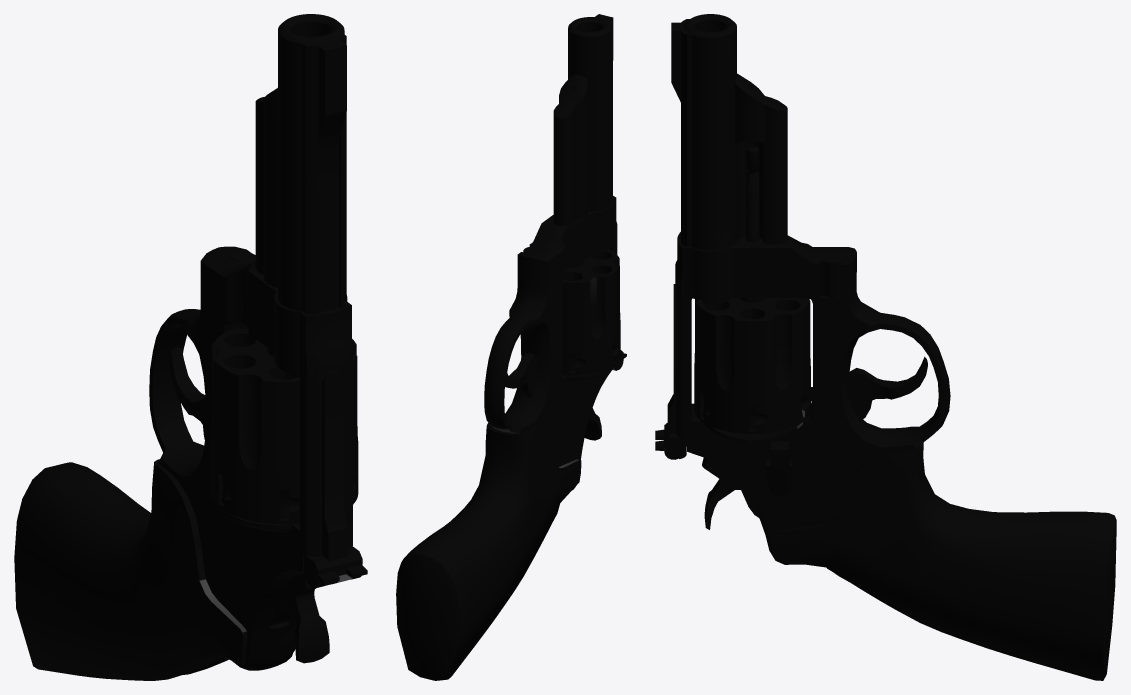
The picture shows the model from 3 angles, left to right: view 1: azimuth 30°, elevation 25°; view 2: azimuth 150°, elevation 25°; view 3: azimuth 270°, elevation 25°; orthographic projection. The views are drawn at different scales.
Visible parts, largest first — view 1: asset_SW_Model29.001; view 2: asset_SW_Model29.001; view 3: asset_SW_Model29.001.
Boxes of the visible parts, x1,y1,x2,y2 form: asset_SW_Model29.001: [14, 14, 367, 680]; asset_SW_Model29.001: [396, 14, 626, 680]; asset_SW_Model29.001: [655, 14, 1116, 680].
Size of the model in its own units: 0.0278 by 0.171 by 0.1099.
